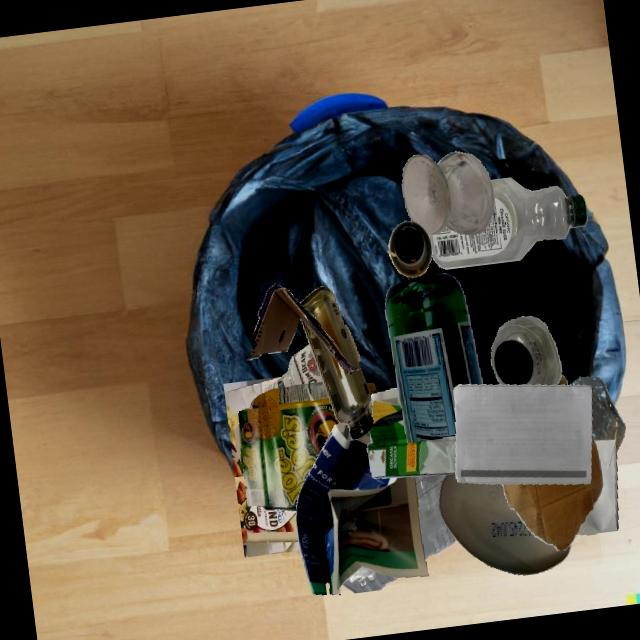cardboard: (223, 376, 299, 557), (238, 381, 340, 510), (502, 435, 603, 551), (247, 282, 358, 374), (366, 400, 455, 478), (557, 374, 567, 385)
glass: (385, 273, 482, 443), (300, 286, 373, 439), (402, 151, 495, 235), (263, 344, 322, 392), (388, 220, 432, 277)
paper: (295, 423, 428, 594), (453, 384, 593, 484), (576, 439, 618, 534)
plastic: (427, 177, 587, 269), (438, 474, 571, 575), (491, 316, 561, 384), (569, 376, 625, 451), (414, 474, 455, 559), (342, 568, 398, 593)
